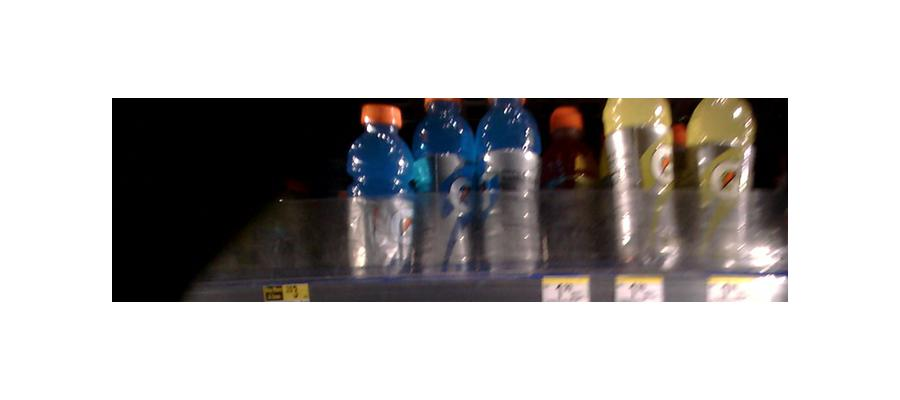bottle: (605, 95, 686, 270), (688, 94, 759, 269), (412, 95, 477, 277), (347, 101, 409, 281), (478, 99, 541, 275), (546, 102, 600, 269)
